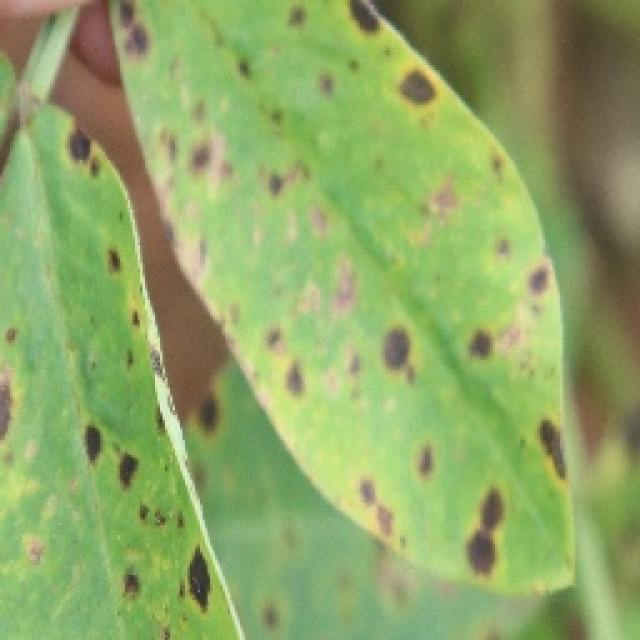Yellowish: (19, 0, 574, 640)
